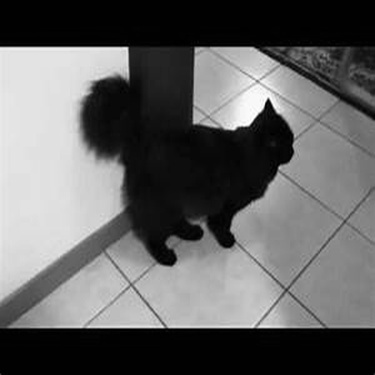cat: (79, 74, 302, 259)
